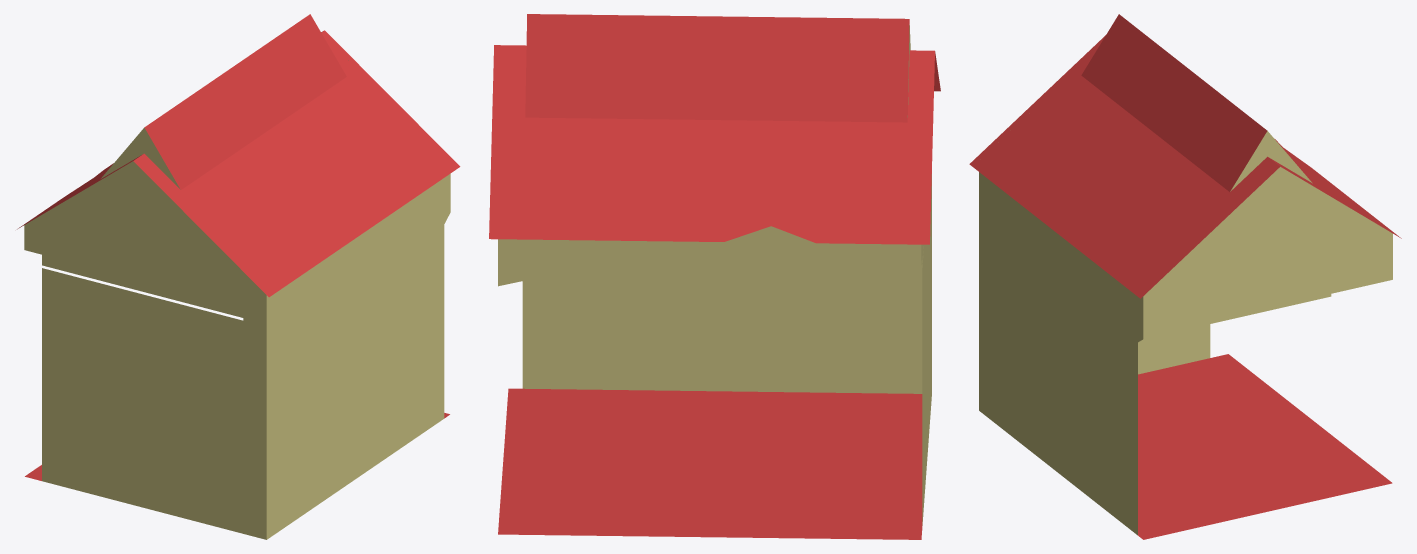
The picture shows the model from 3 angles, left to right: view 1: azimuth 30°, elevation 25°; view 2: azimuth 150°, elevation 25°; view 3: azimuth 270°, elevation 25°; orthographic projection. The views are drawn at different scales.
Bounding box in the file's own units: 16.05 × 15.14 × 14.32.
